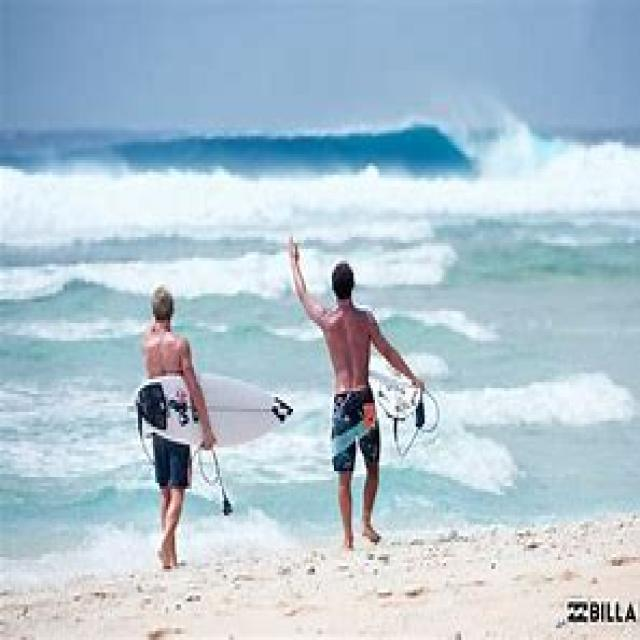stand: (310, 238, 390, 549), (139, 266, 205, 580)
